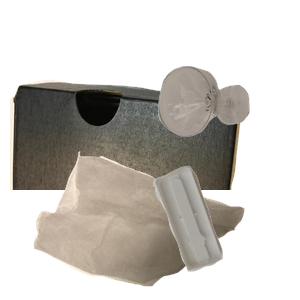cardboard: (10, 77, 245, 257)
glass: (156, 64, 300, 194)
plastic: (150, 163, 300, 300)
trash: (31, 149, 268, 300)
